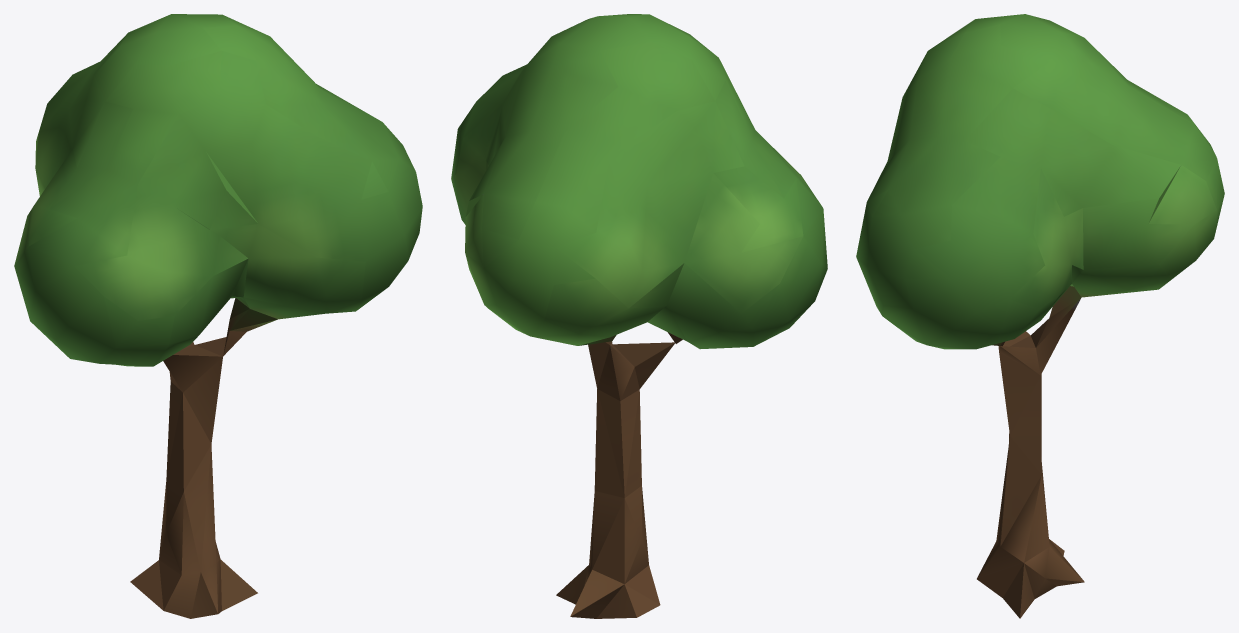
File: tree_edits.far.glb
3 views of the same model, side by side, from view 1: azimuth 30°, elevation 25°; view 2: azimuth 150°, elevation 25°; view 3: azimuth 270°, elevation 25° (orthographic). The views are drawn at different scales.
Visible parts, largest first — view 1: tree_edits; view 2: tree_edits; view 3: tree_edits.
Part boxes in pixels (bbox=[...]): tree_edits: bbox=[14, 14, 422, 618]; tree_edits: bbox=[451, 14, 827, 618]; tree_edits: bbox=[856, 14, 1224, 618].
Bounding box in the file's own units: 3.33 × 5.14 × 3.04.
1 material, 1 textured.
